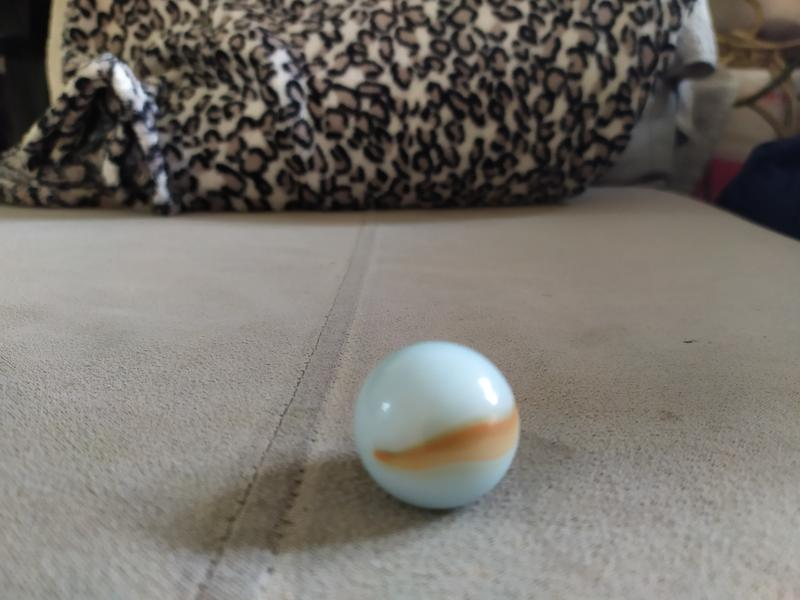Warning: (346, 336, 528, 514)
